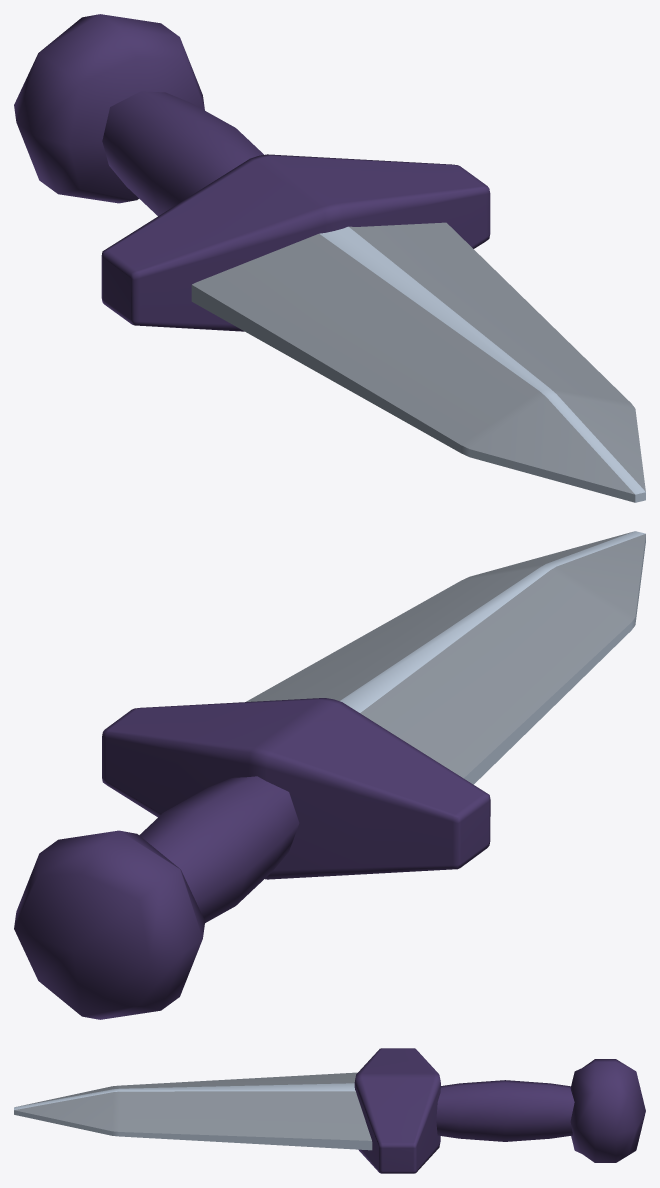
File: Dagger.fbx
3 renders of one model, top to bottom at view 1: azimuth 30°, elevation 25°; view 2: azimuth 150°, elevation 25°; view 3: azimuth 270°, elevation 25°, orthographic. The views are drawn at different scales.
Parts seen in each view (by area): view 1: Dagger; view 2: Dagger; view 3: Dagger.
Part boxes in pixels (<box>): Dagger: <box>14,14,645,502</box>; Dagger: <box>14,531,645,1019</box>; Dagger: <box>14,1048,645,1173</box>.
Bounding box in the file's own units: 12.62 × 5.91 × 34.64.
